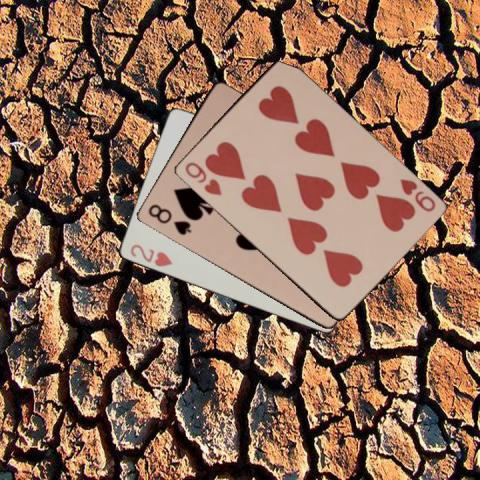2h: (127, 240, 173, 268)
8s: (144, 202, 192, 237)
9h: (181, 159, 223, 197), (396, 176, 437, 214)
